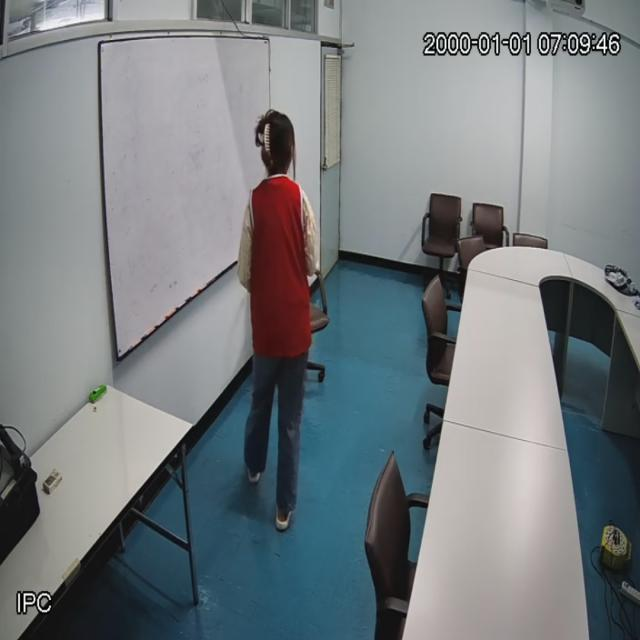normal: (237, 112, 316, 510)
